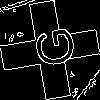G: (25, 25, 77, 71)
